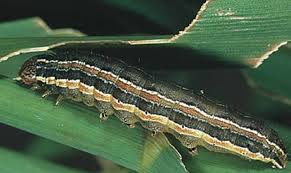Armyworm: (16, 41, 285, 173)
